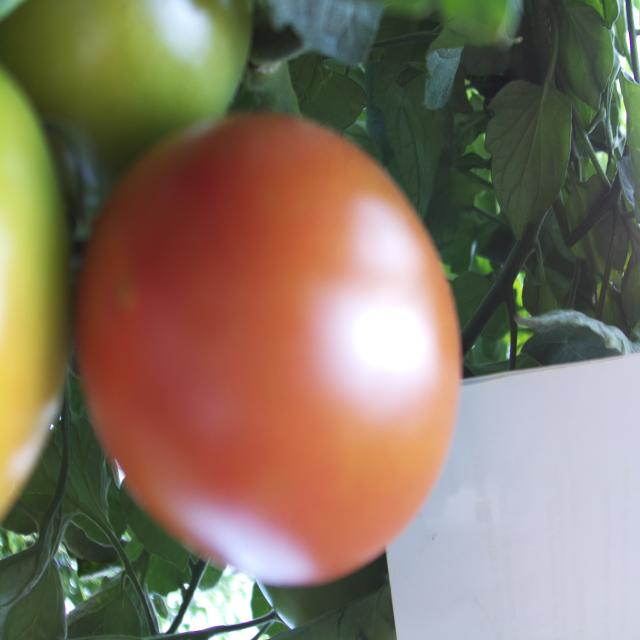kirmizi: (46, 99, 498, 608)
